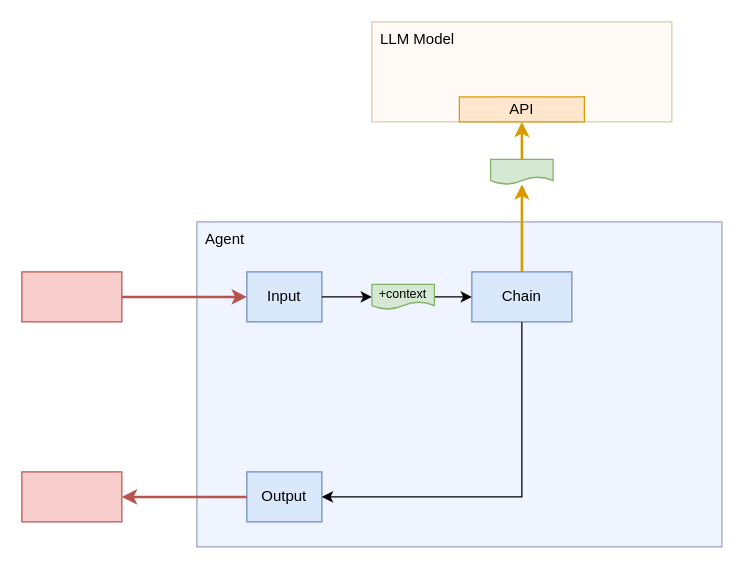
This 744x569 diagram has some shape labels left out. The shapes that lost their labels are listed below. From the top down, each one's centre as x and y in pixels, then its label:
At point 521,171: "context".
At point 71,296: "argument 1".
At point 71,496: "stdout".
